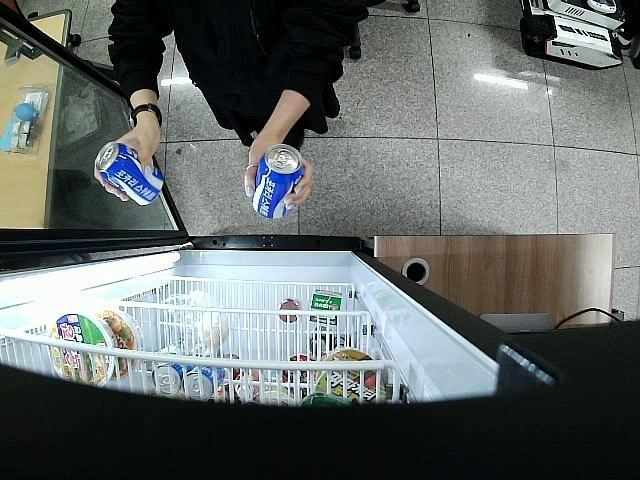13_pocariSweat: (95, 142, 164, 206), (252, 145, 304, 219)
